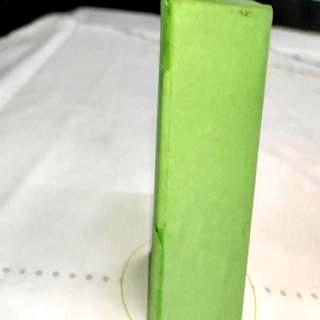greenbox: (144, 0, 274, 320)
